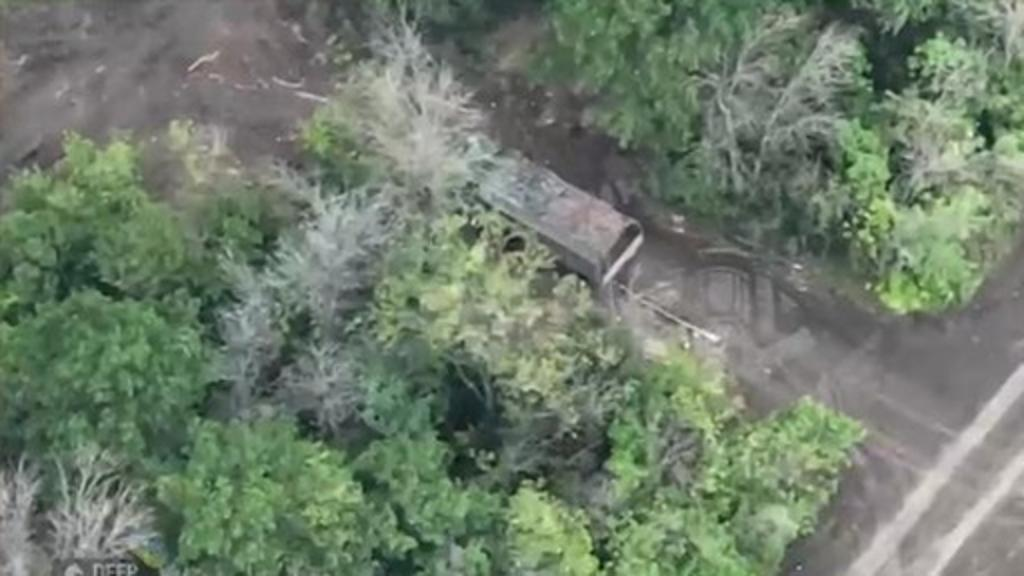TRUCK: (436, 122, 646, 308)
